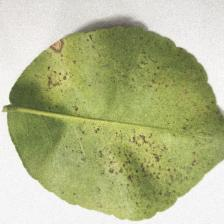canker: (48, 40, 180, 196)
